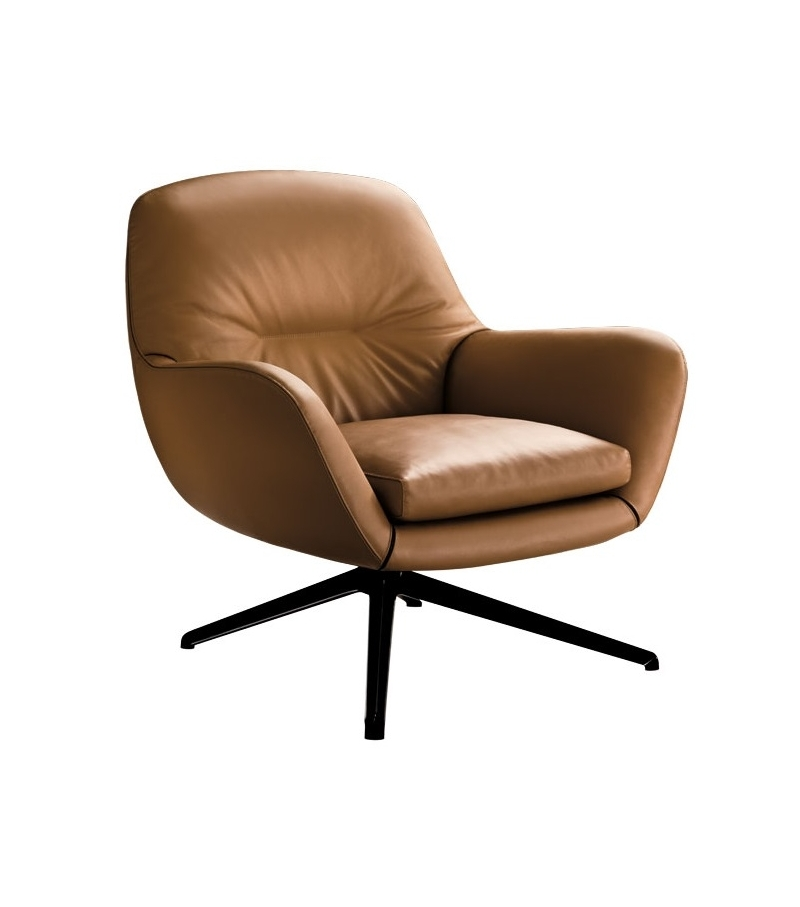chairs: (93, 165, 688, 742)
